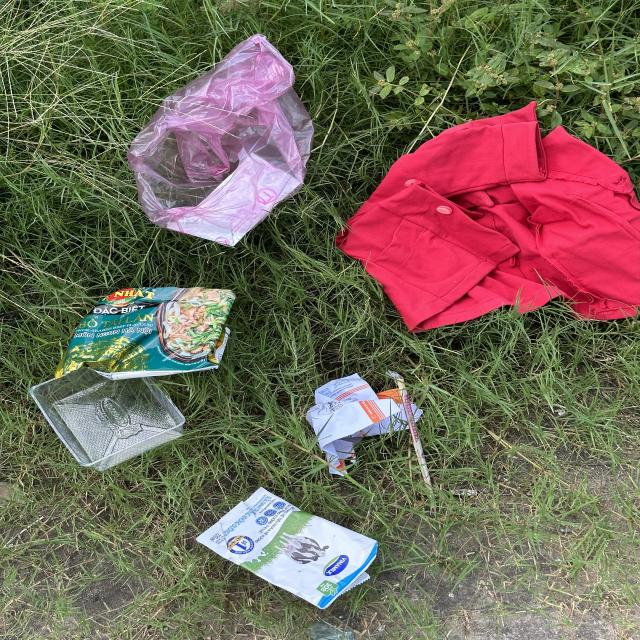bag: (130, 32, 317, 249)
clothes: (336, 100, 640, 332)
packet: (195, 486, 378, 609)
paper: (304, 372, 423, 477)
plastic holder: (29, 367, 188, 473)
snack package: (54, 286, 238, 380)
